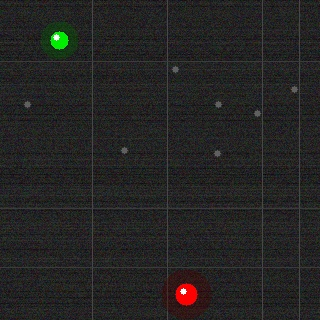green_normal: (48, 29, 70, 51)
red_fault: (173, 281, 199, 307)
